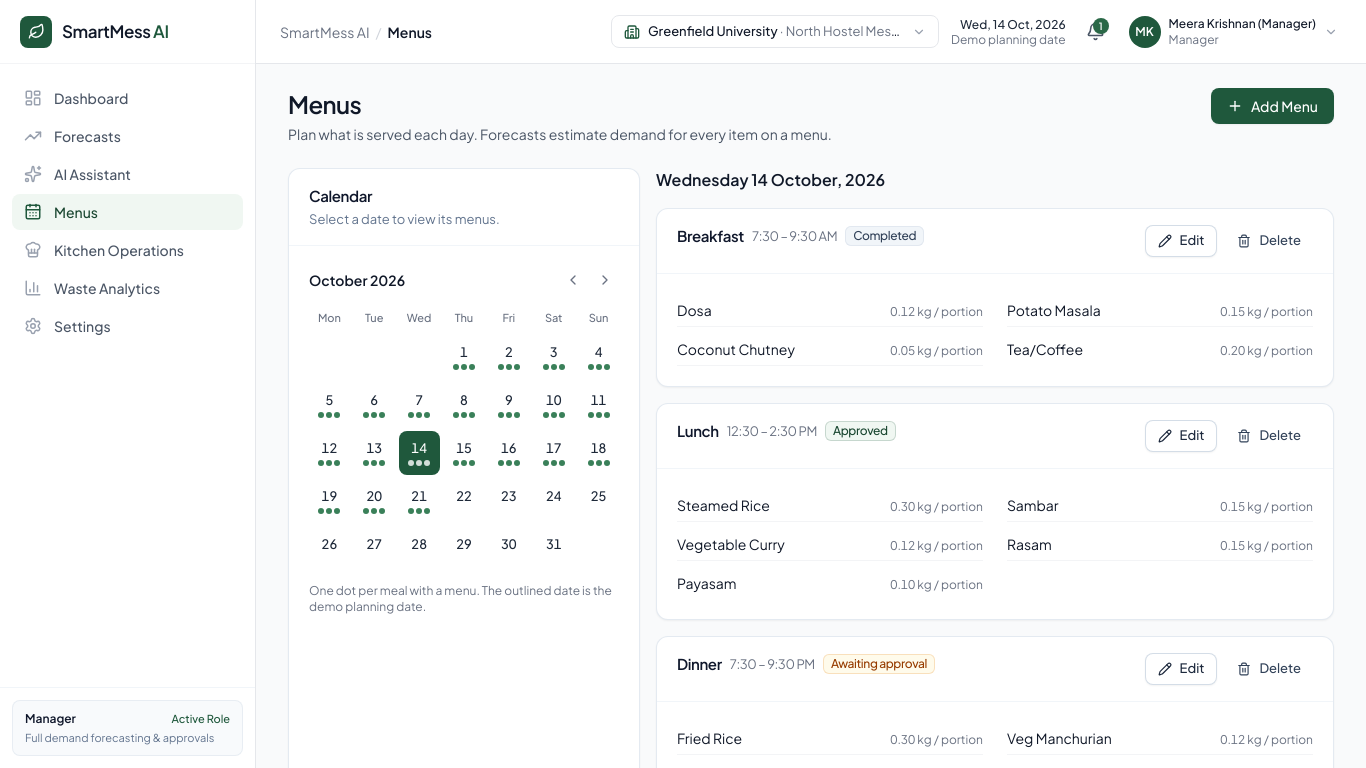
Scenario: Menus calendar › moves to the saved menu’s month and shows the selected day
Expected: the heading "October 2026" is shown, [309,270,405,290]
Click the button "Add Menu": (1272, 106) [1211,88,1334,124]
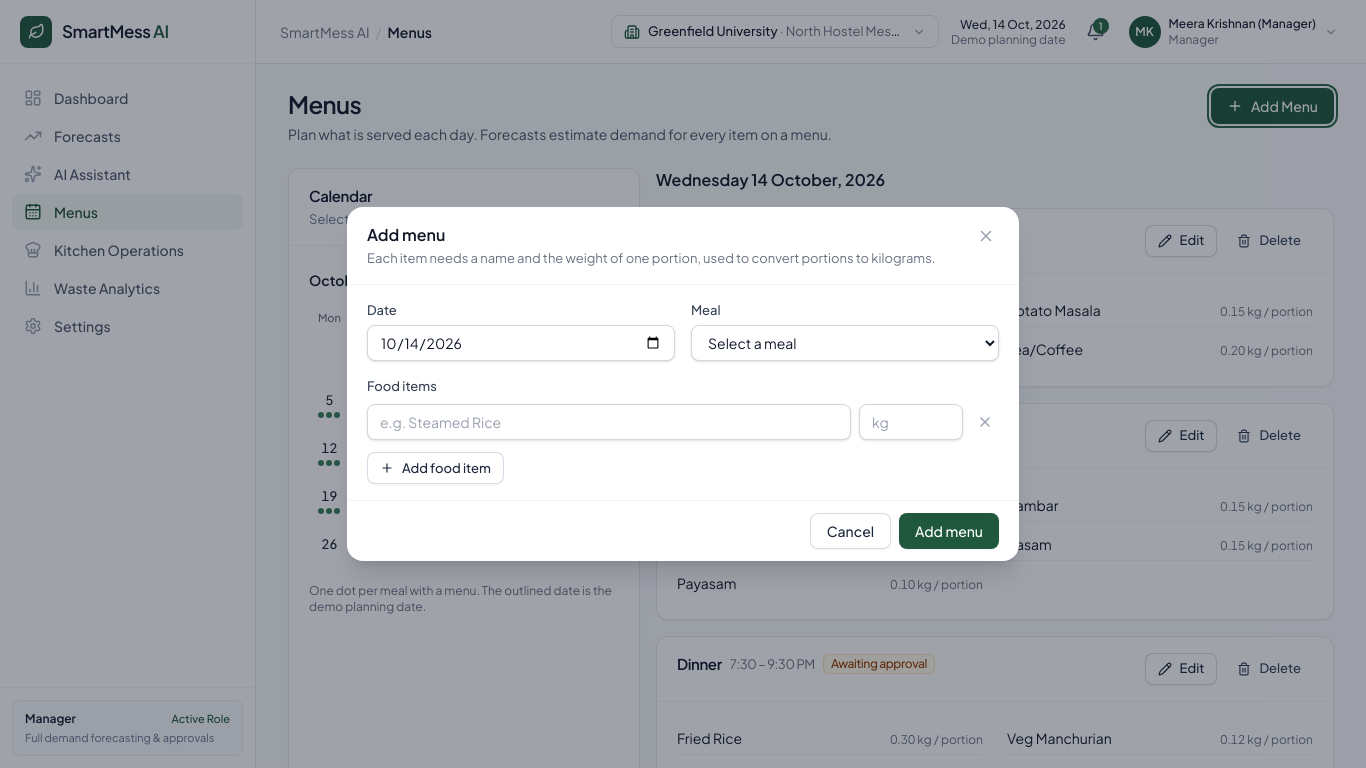
In the date field labelled "Date": (521, 343) [367,325,675,361], type "2028-12-01"
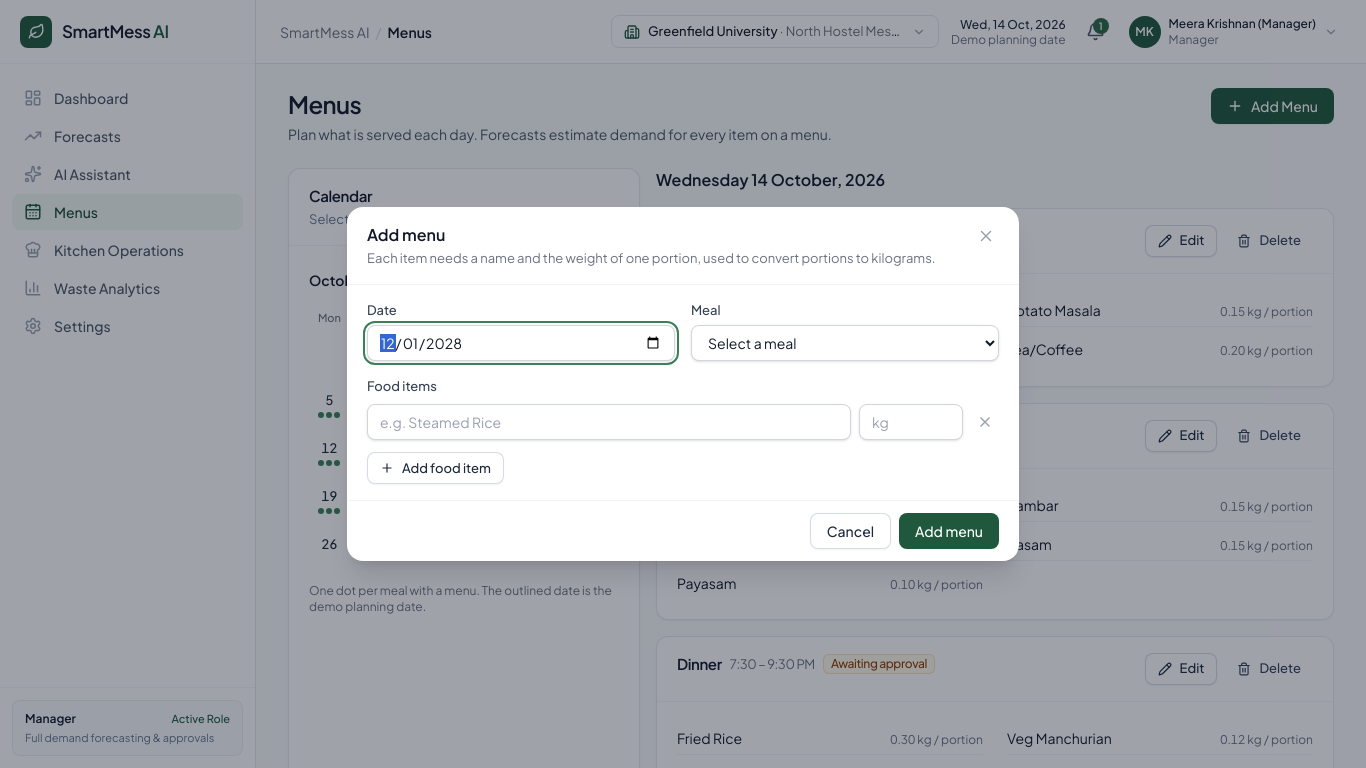
Select "Dinner" in the dropdown labelled "Meal": (845, 343) [691,325,999,361]
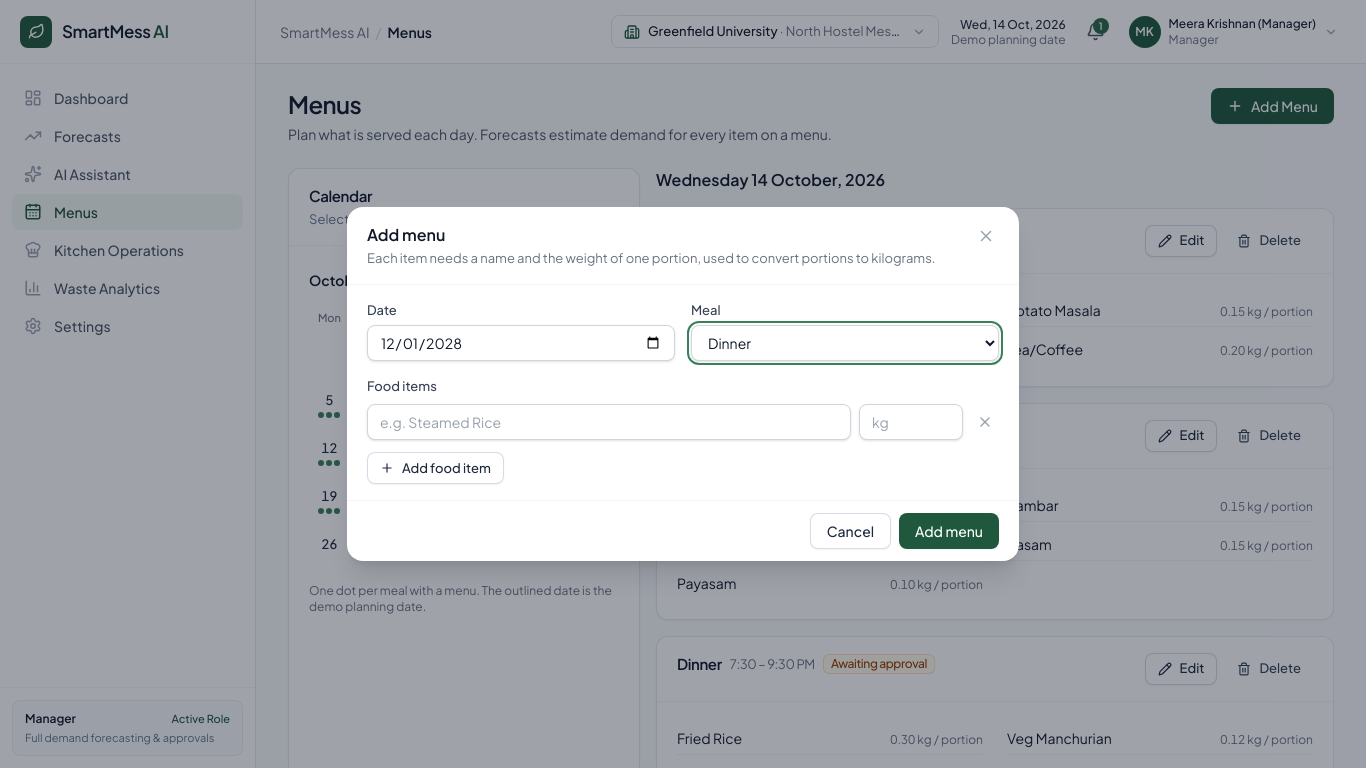
In the field named "Food item 1 name": (609, 422) [367,404,851,440], type "Test Pulao"
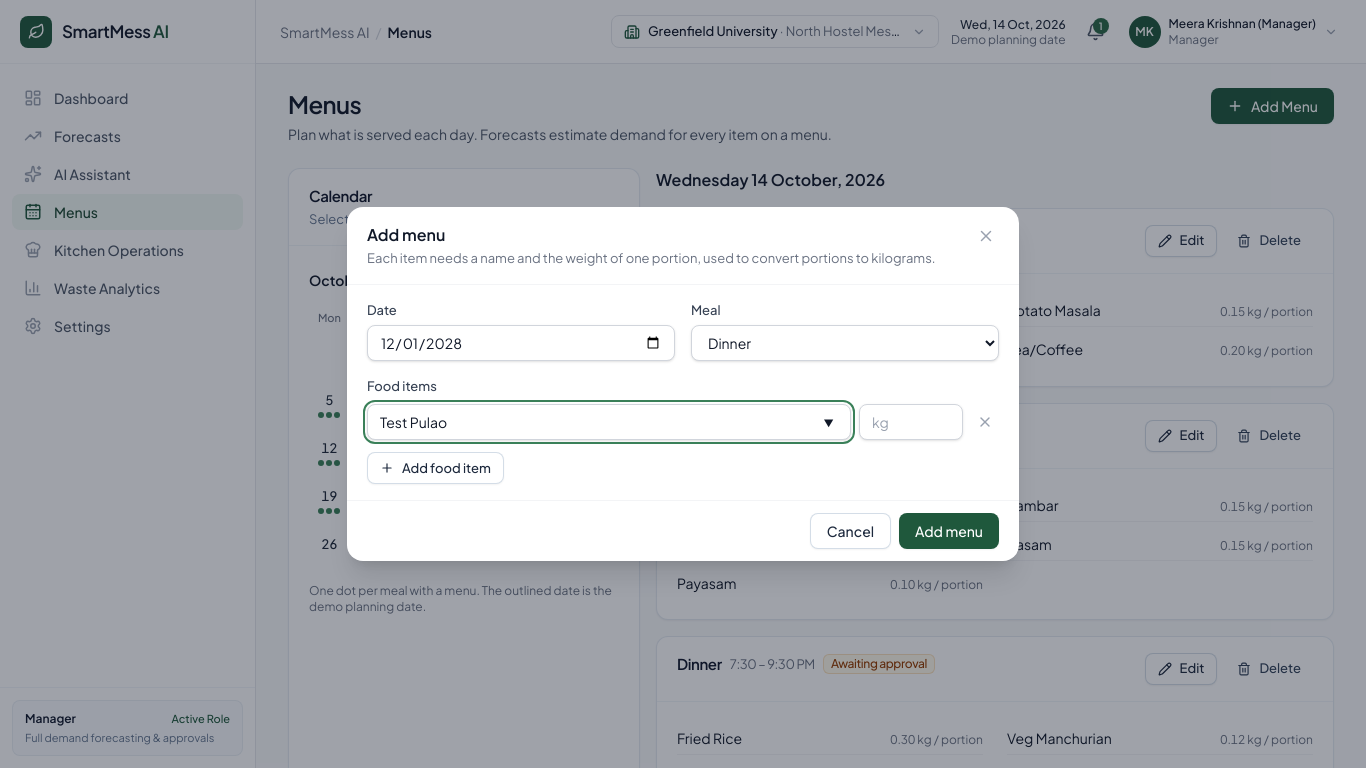
In the number field named "Food item 1 kilograms per portion": (911, 422) [859,404,963,440], type "0.3"
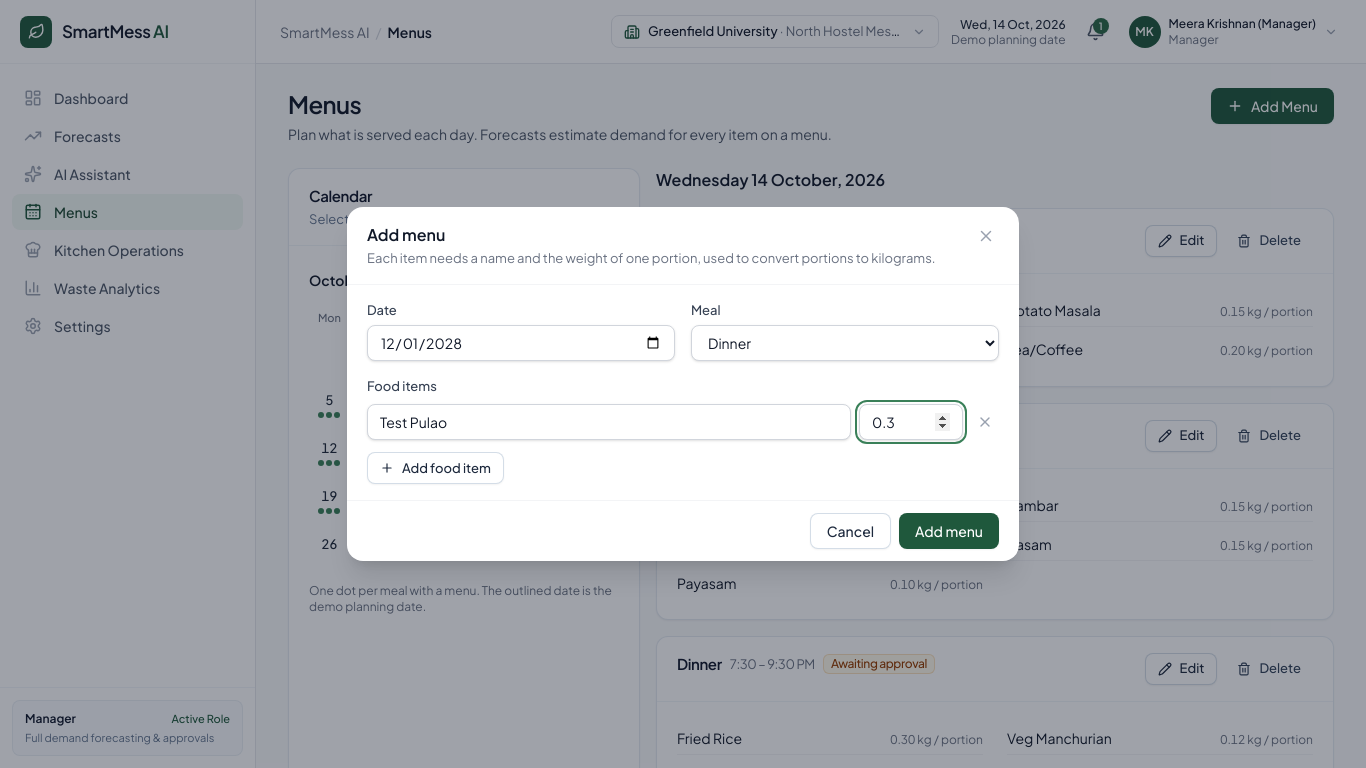
Click the button "Add menu": (949, 531) [899,513,999,549]
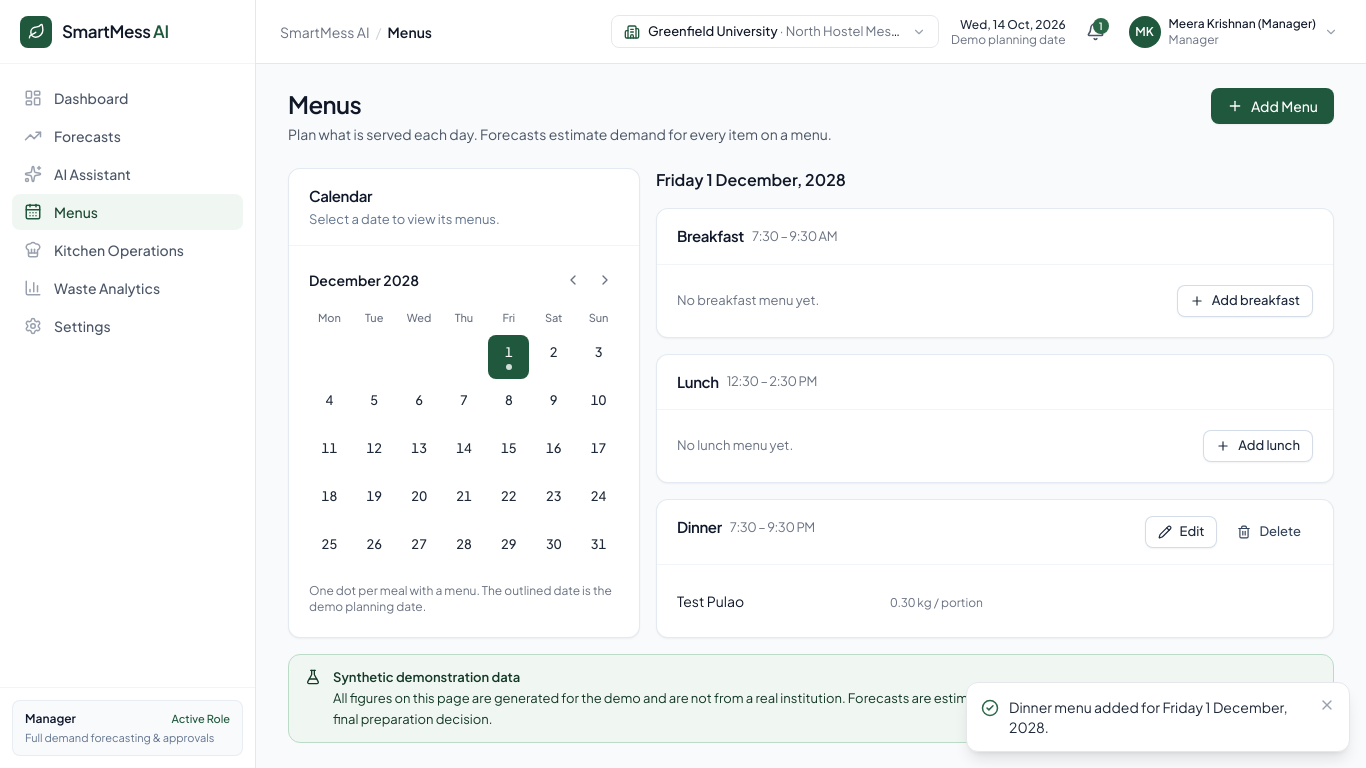
Expected: the heading "December 2028" is shown, [309,270,419,290]
